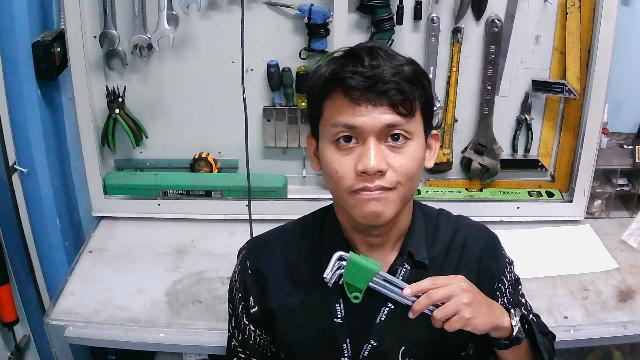kunci_l_bintang: (314, 247, 454, 325)
